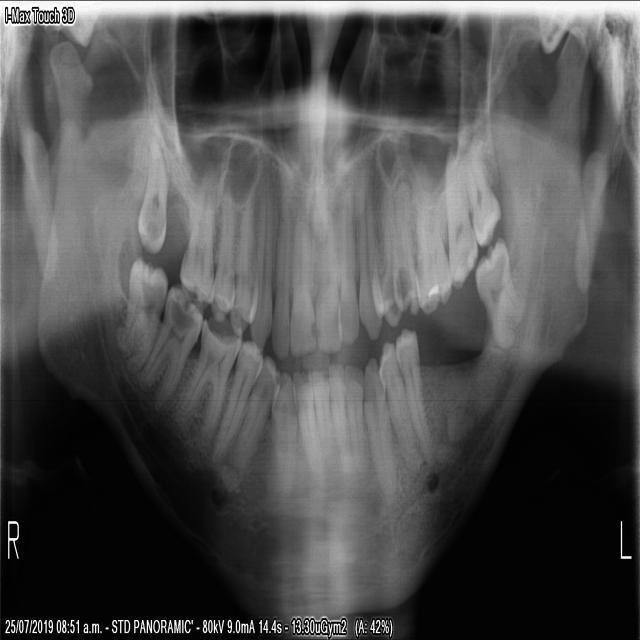LCD: (329, 365, 356, 476)
LCU: (357, 177, 382, 341)
LID: (291, 369, 328, 487), (312, 369, 337, 465)
LIU: (312, 172, 342, 355), (337, 163, 361, 354)
LMD: (472, 230, 525, 351), (396, 327, 433, 460)
LMU: (413, 162, 453, 312), (443, 147, 481, 294), (460, 144, 503, 254)
LPMD: (378, 335, 427, 480), (365, 351, 399, 501), (345, 365, 366, 474)
LPMU: (391, 174, 422, 319), (376, 176, 402, 330)
RCD: (209, 340, 263, 462)
RCU: (247, 169, 274, 351)
RID: (223, 358, 280, 490), (271, 369, 296, 496)
RIU: (290, 188, 316, 362), (270, 193, 291, 362)
RMD: (174, 313, 242, 447), (136, 280, 204, 413), (113, 258, 168, 371)
RMU: (175, 171, 215, 308), (135, 138, 170, 257)
RPMU: (229, 171, 255, 337), (210, 176, 235, 326)
